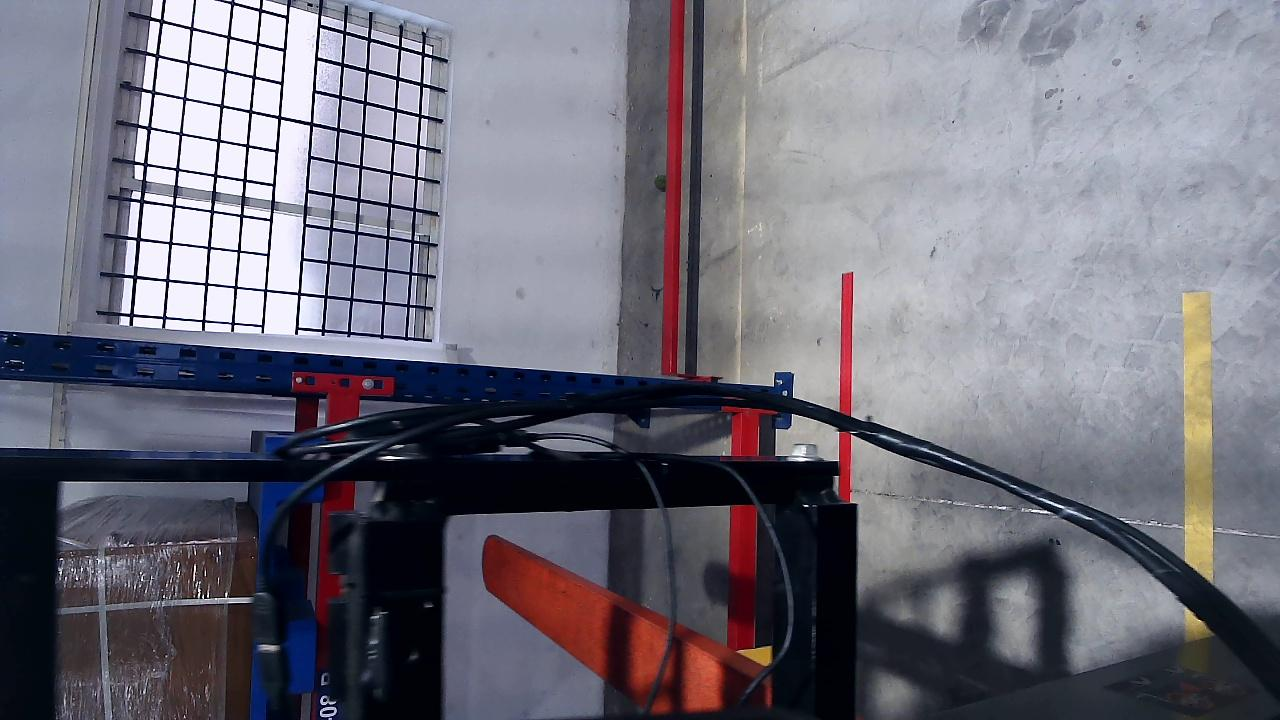red_line: (838, 271, 856, 508)
yellow_line: (1182, 291, 1215, 581)
